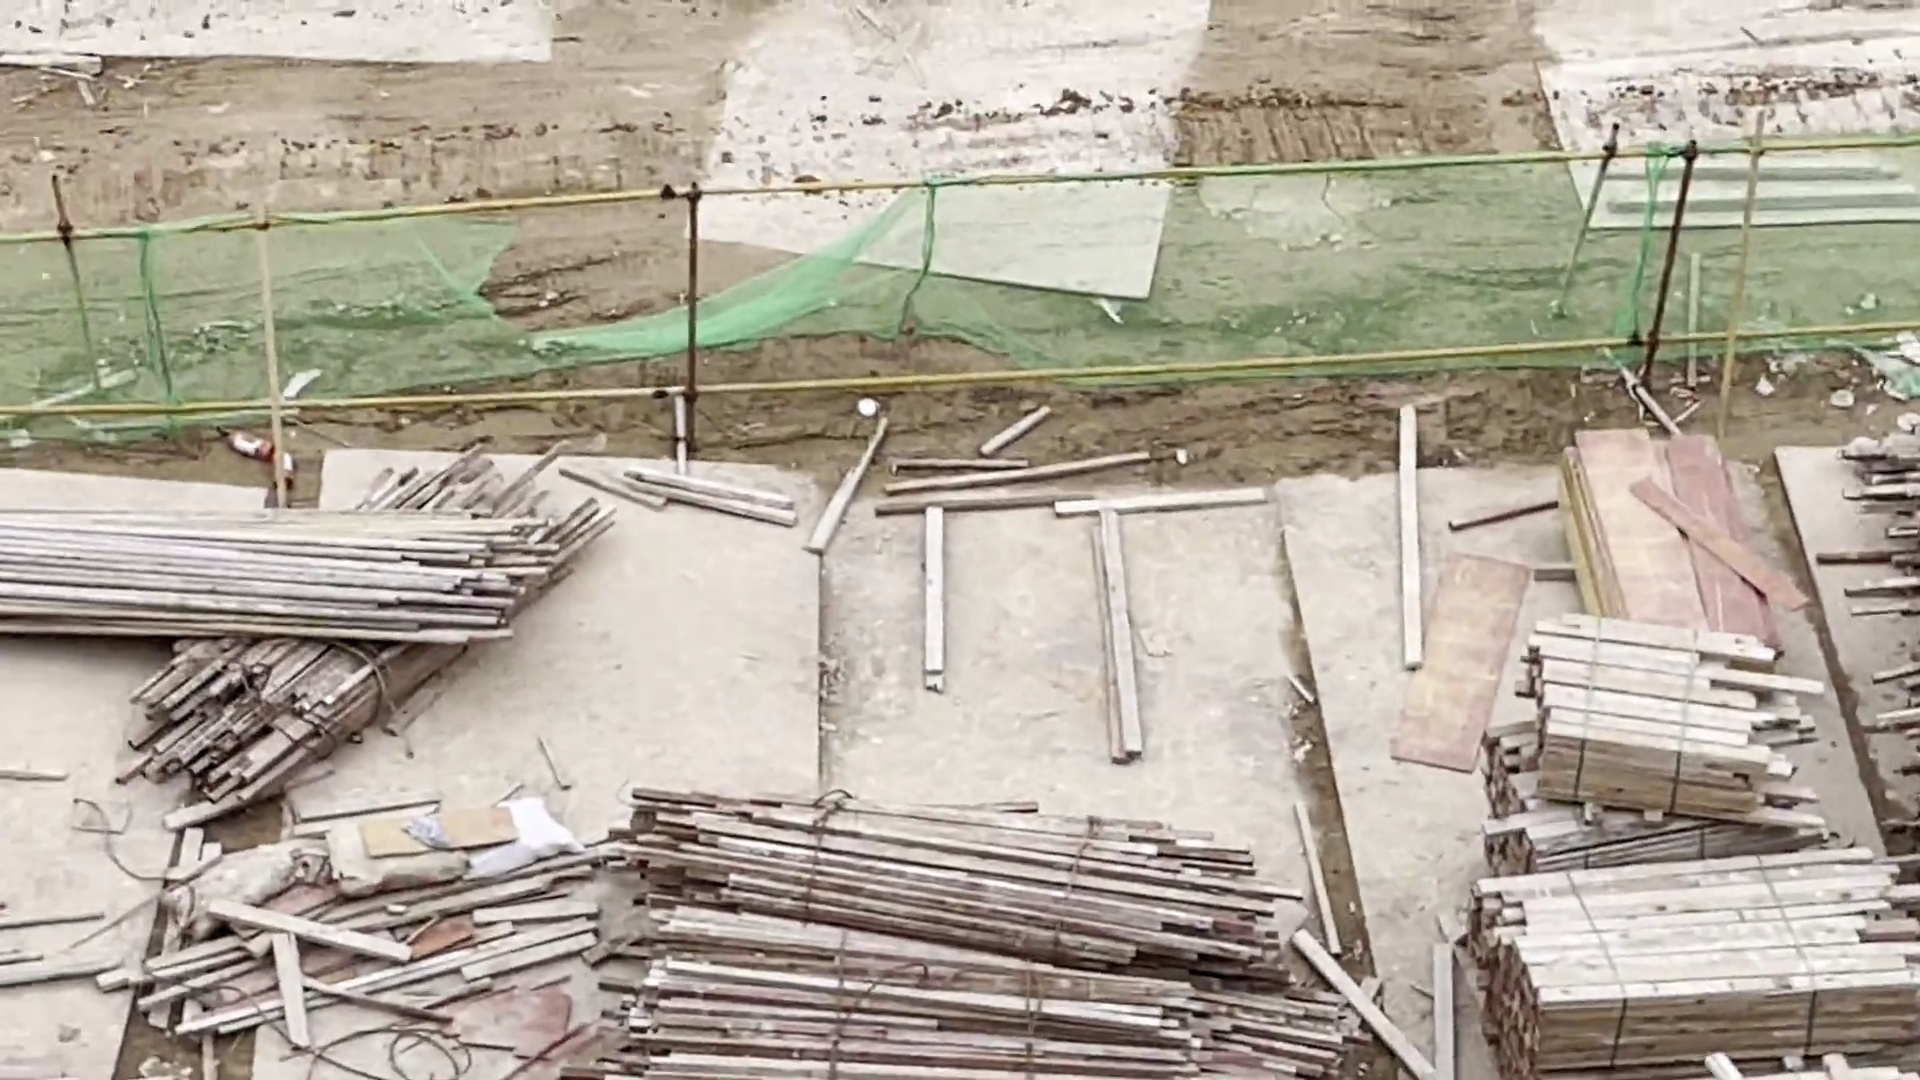board: (1528, 414, 1803, 636)
scaffold: (8, 491, 560, 659)
wood: (624, 767, 1356, 1080), (1440, 851, 1913, 1072), (1520, 611, 1836, 837)
